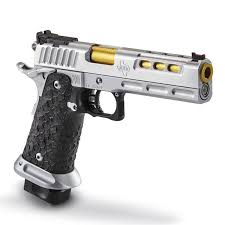gun: (15, 28, 217, 205)
